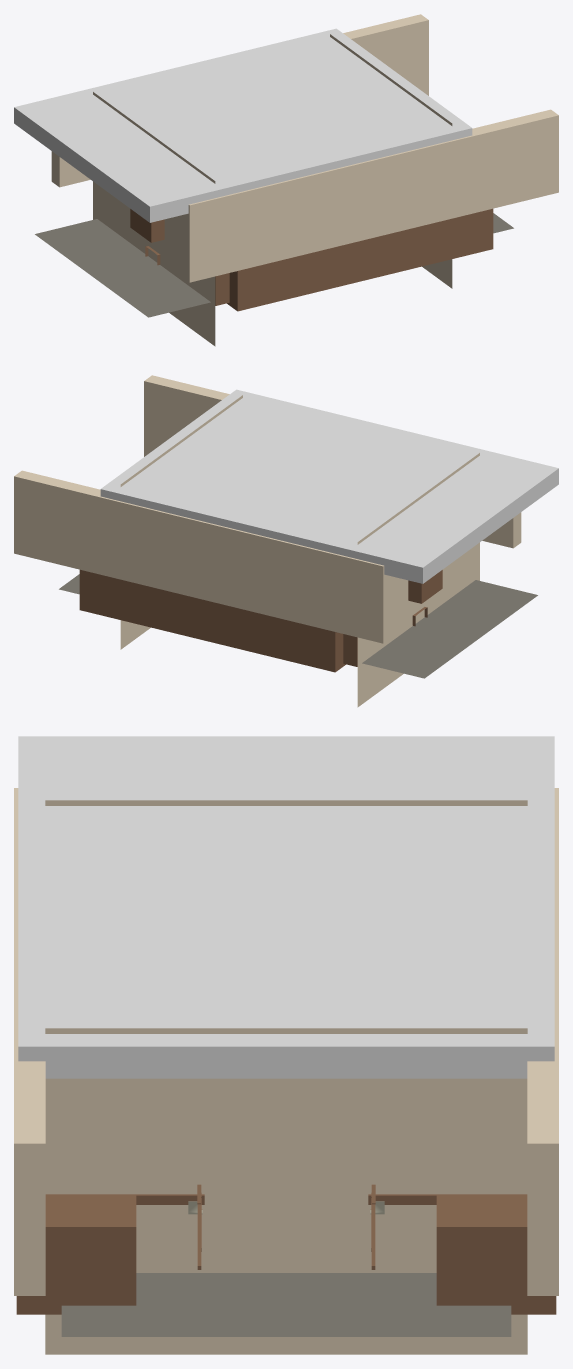
Rendered from alex floor 2.fbx.
3 views of the same model, one above another, from view 1: azimuth 30°, elevation 25°; view 2: azimuth 150°, elevation 25°; view 3: azimuth 270°, elevation 25° (orthographic). The views are drawn at different scales.
Parts seen in each view (by area): view 1: Cube.038, Cube.014, Cube.004, Plane, Plane.002, Plane.011, Cube.009, Cube.022; view 2: Cube.038, Cube.014, Cube.004, Plane, Plane.002, Plane.011, Cube.009, Cube.022; view 3: Cube.038, Plane.011, Plane, Cube.004, Cube.014, Plane.002, Cube.006.
Part boxes in pixels (left/top/right/bottom): Cube.038: left=14, top=28, right=472, bottom=222; Cube.014: left=51, top=14, right=558, bottom=282; Cube.004: left=227, top=208, right=493, bottom=311; Plane: left=35, top=213, right=513, bottom=317; Plane.002: left=93, top=92, right=215, bottom=346; Plane.011: left=330, top=34, right=452, bottom=288; Cube.009: left=130, top=209, right=164, bottom=242; Cube.022: left=215, top=273, right=229, bottom=305; Cube.038: left=100, top=389, right=558, bottom=583; Cube.014: left=14, top=375, right=521, bottom=643; Cube.004: left=79, top=569, right=345, bottom=672; Plane: left=59, top=574, right=537, bottom=678; Plane.002: left=357, top=453, right=479, bottom=707; Plane.011: left=120, top=395, right=242, bottom=649; Cube.009: left=408, top=570, right=442, bottom=603; Cube.022: left=343, top=634, right=357, bottom=666; Cube.038: left=18, top=736, right=554, bottom=1078; Plane.011: left=45, top=1028, right=527, bottom=1354; Plane: left=61, top=1273, right=511, bottom=1336; Cube.004: left=16, top=1195, right=556, bottom=1314; Cube.014: left=14, top=788, right=558, bottom=1295; Plane.002: left=45, top=800, right=527, bottom=805; Cube.006: left=45, top=1194, right=527, bottom=1204.
Bounding box in the file's own units: 43940 × 17030 × 25766.
